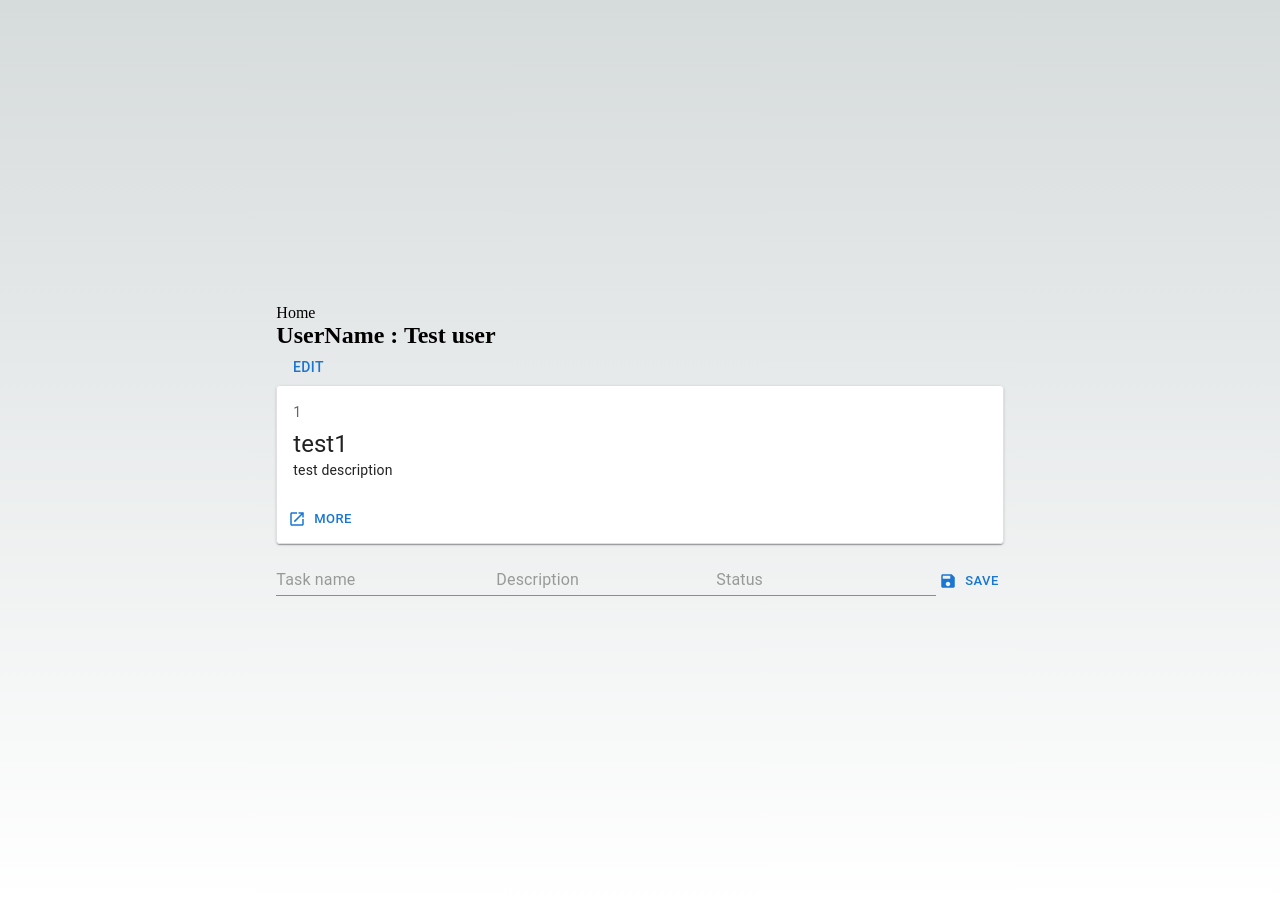
Test: Tasks › change username
Expected: the heading "UserName : Test user" is shown, [276, 322, 496, 348]
Click the button with test id "username-tag-edit-button".
click(308, 367)  # box [276, 349, 340, 385]
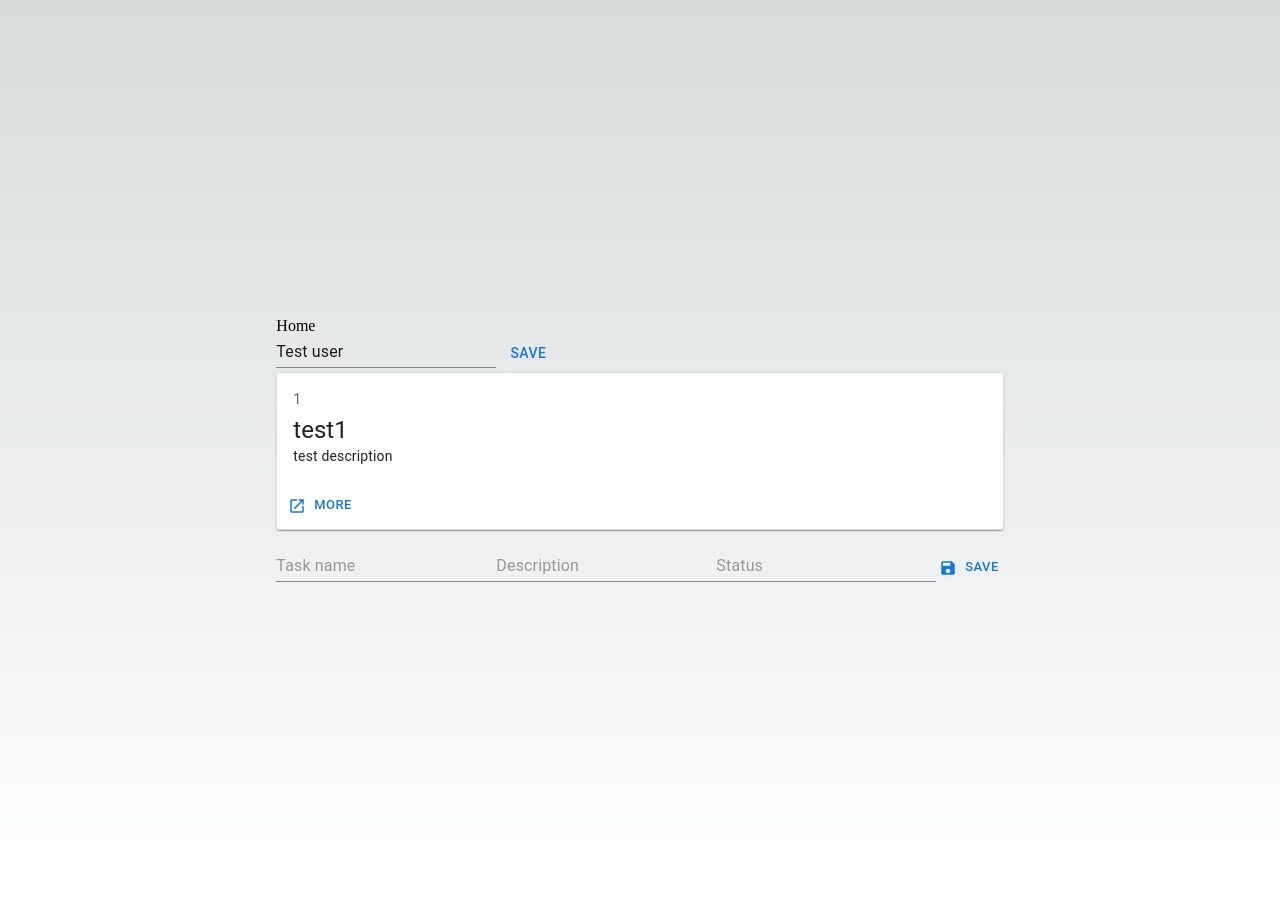
Replace the text in the 1st field with "suman" at (386, 352), box [276, 336, 496, 368]
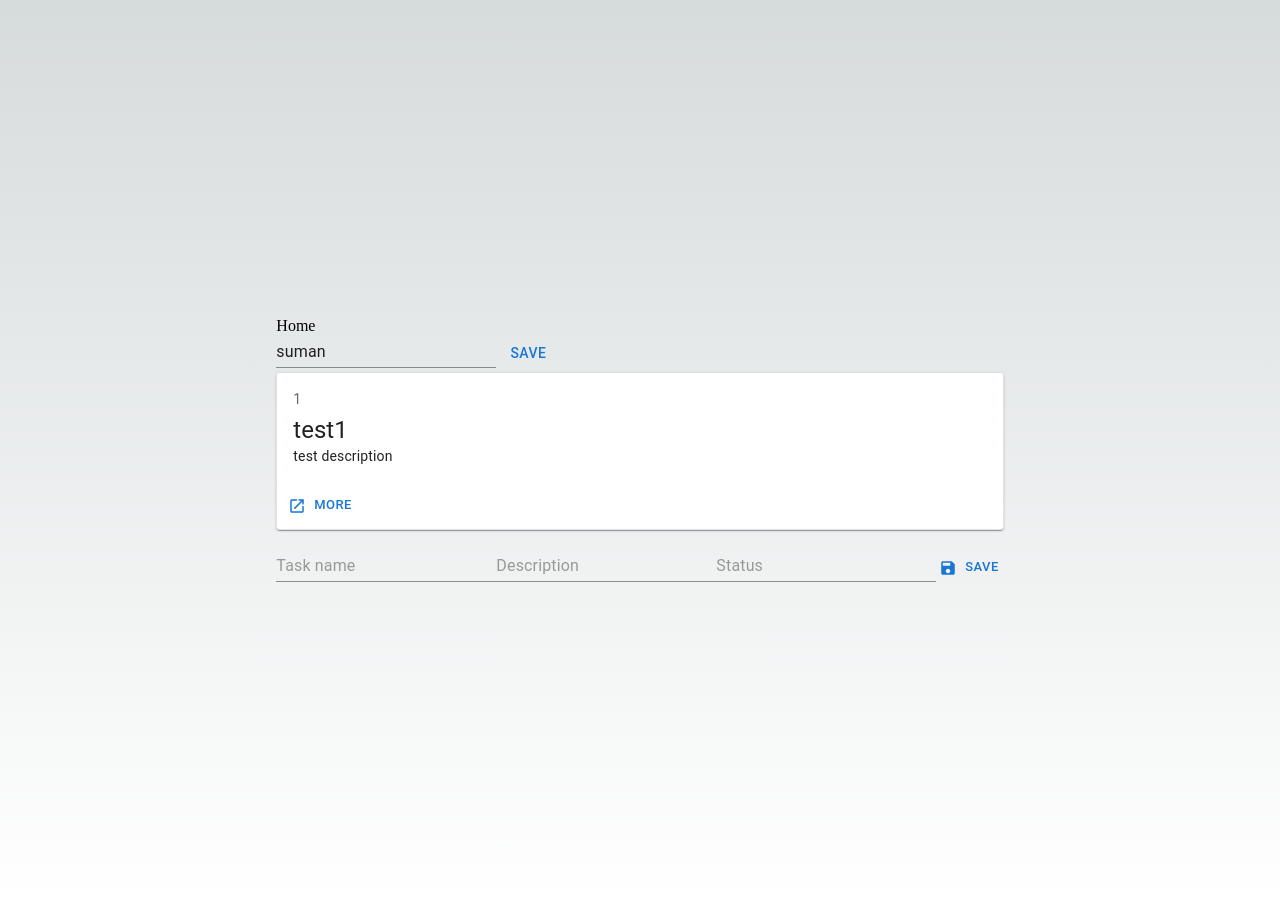
Click the button with test id "username-tag-save-button".
click(528, 353)  # box [496, 335, 560, 372]
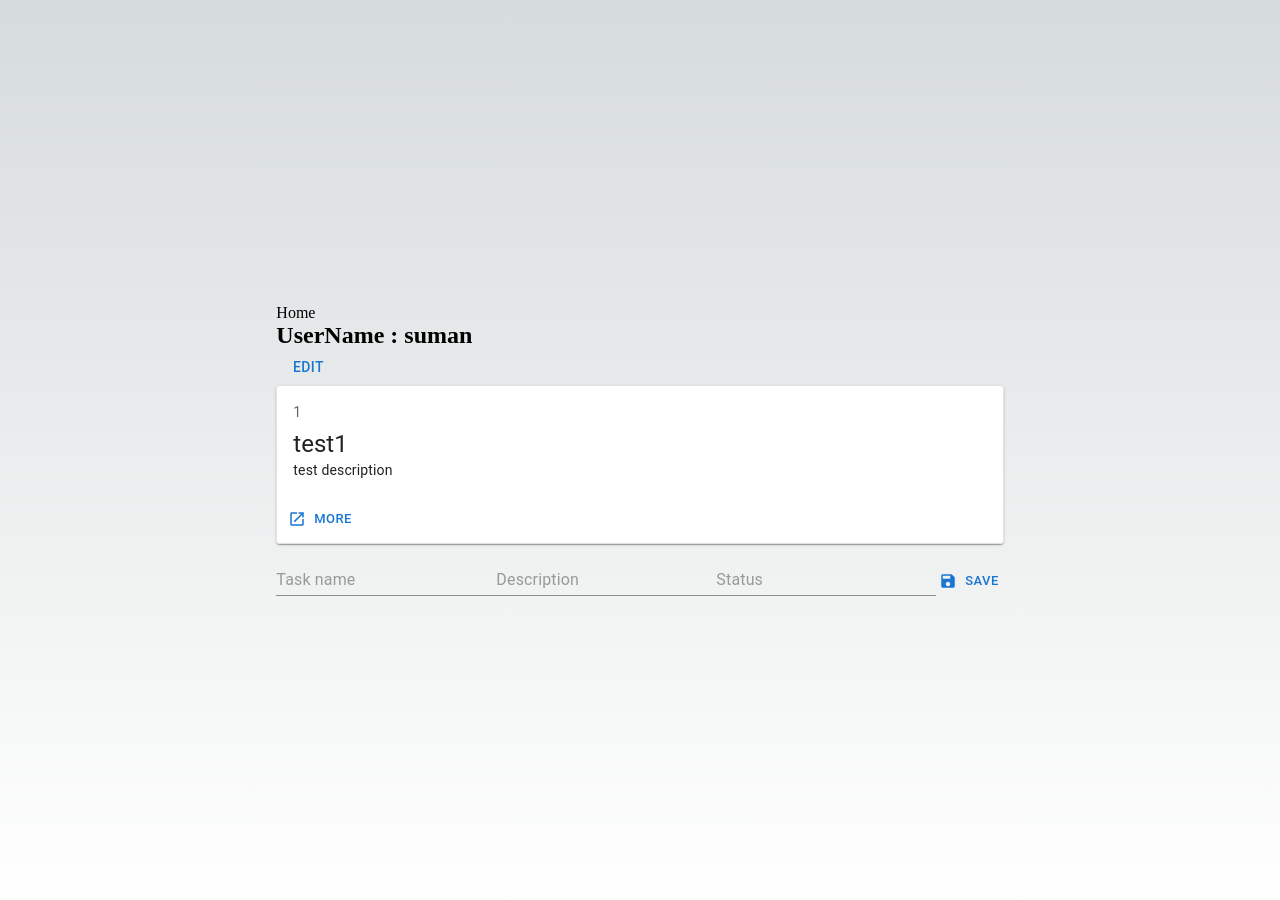
Expected: the heading "UserName : suman" is shown, [276, 322, 472, 348]
